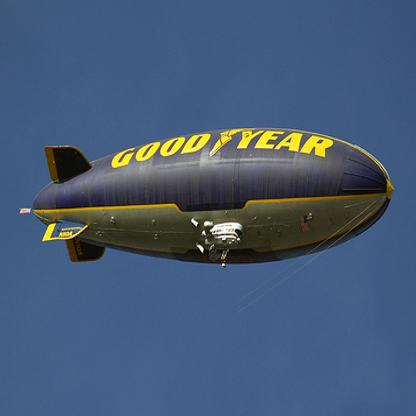Airship: (18, 126, 396, 269)
